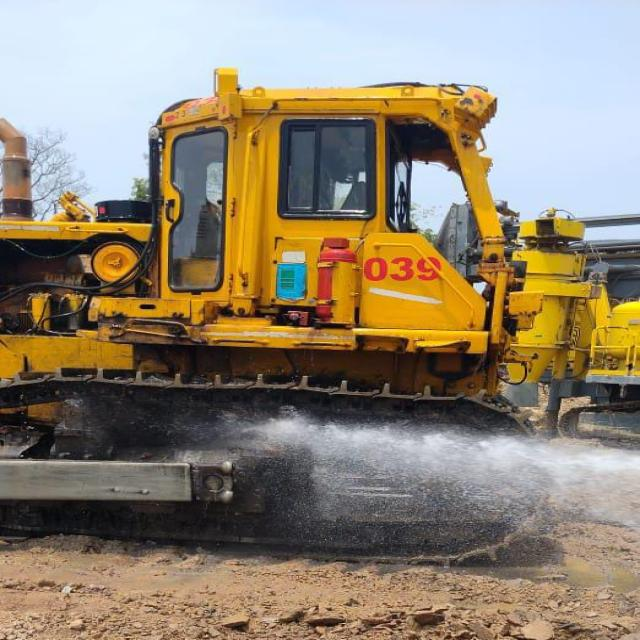buldozerpayloadergrader: (2, 51, 542, 558)
